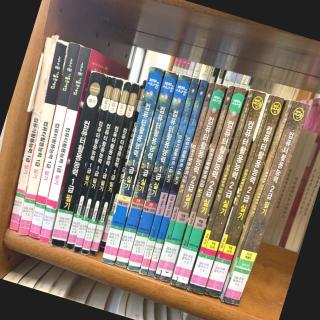book-spine: (222, 99, 310, 307), (208, 95, 284, 298), (192, 90, 266, 294), (220, 99, 293, 301), (175, 86, 246, 289), (204, 94, 273, 295), (159, 83, 226, 282), (188, 89, 254, 291), (126, 73, 192, 273), (169, 85, 234, 285), (100, 65, 164, 265), (114, 70, 178, 268), (146, 79, 209, 277), (154, 81, 215, 279), (139, 77, 199, 275), (27, 42, 81, 239), (38, 46, 92, 243), (16, 39, 69, 236), (49, 71, 107, 248), (7, 37, 57, 232), (80, 80, 133, 256), (72, 77, 124, 253), (88, 83, 140, 257), (65, 76, 116, 250), (100, 79, 147, 248)
